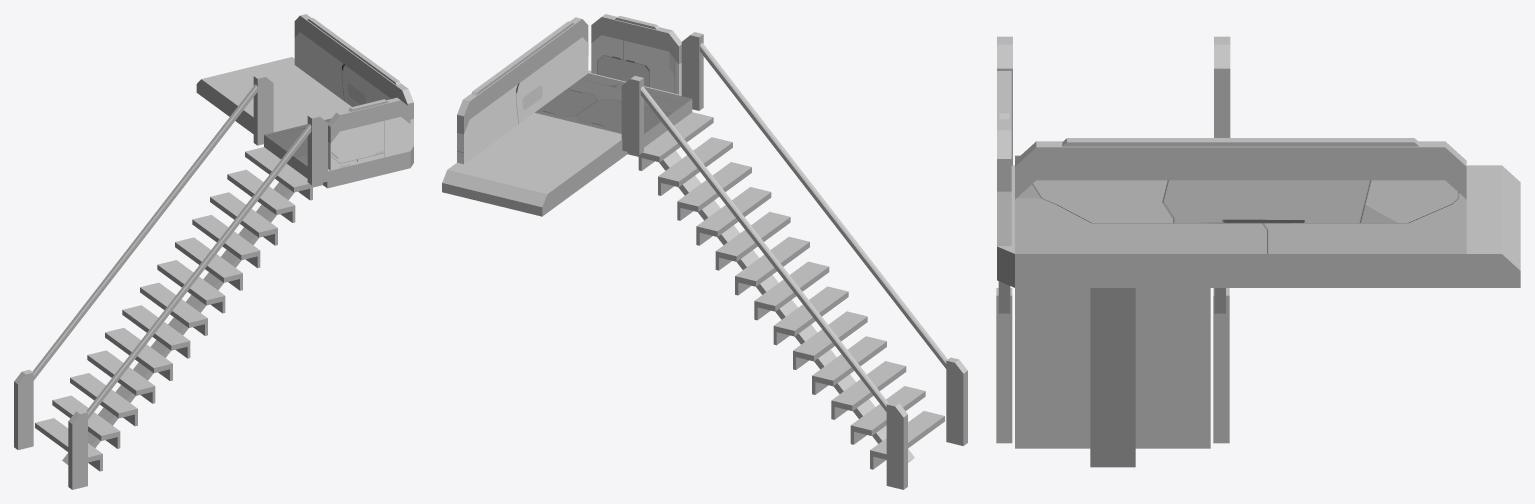
The model's file is SM_Stairs_2.fbx.
3 views of the same model, side by side, from view 1: azimuth 30°, elevation 25°; view 2: azimuth 150°, elevation 25°; view 3: azimuth 270°, elevation 25° (orthographic). The views are drawn at different scales.
Parts seen in each view (by area): view 1: SM_Stairs_2; view 2: SM_Stairs_2; view 3: SM_Stairs_2.
Boxes of the visible parts, x1=… form: SM_Stairs_2: x1=14, y1=14, x2=413, y2=489; SM_Stairs_2: x1=442, y1=14, x2=967, y2=489; SM_Stairs_2: x1=996, y1=36, x2=1520, y2=467.
Size of the model in its own units: 593 by 522 by 389.
